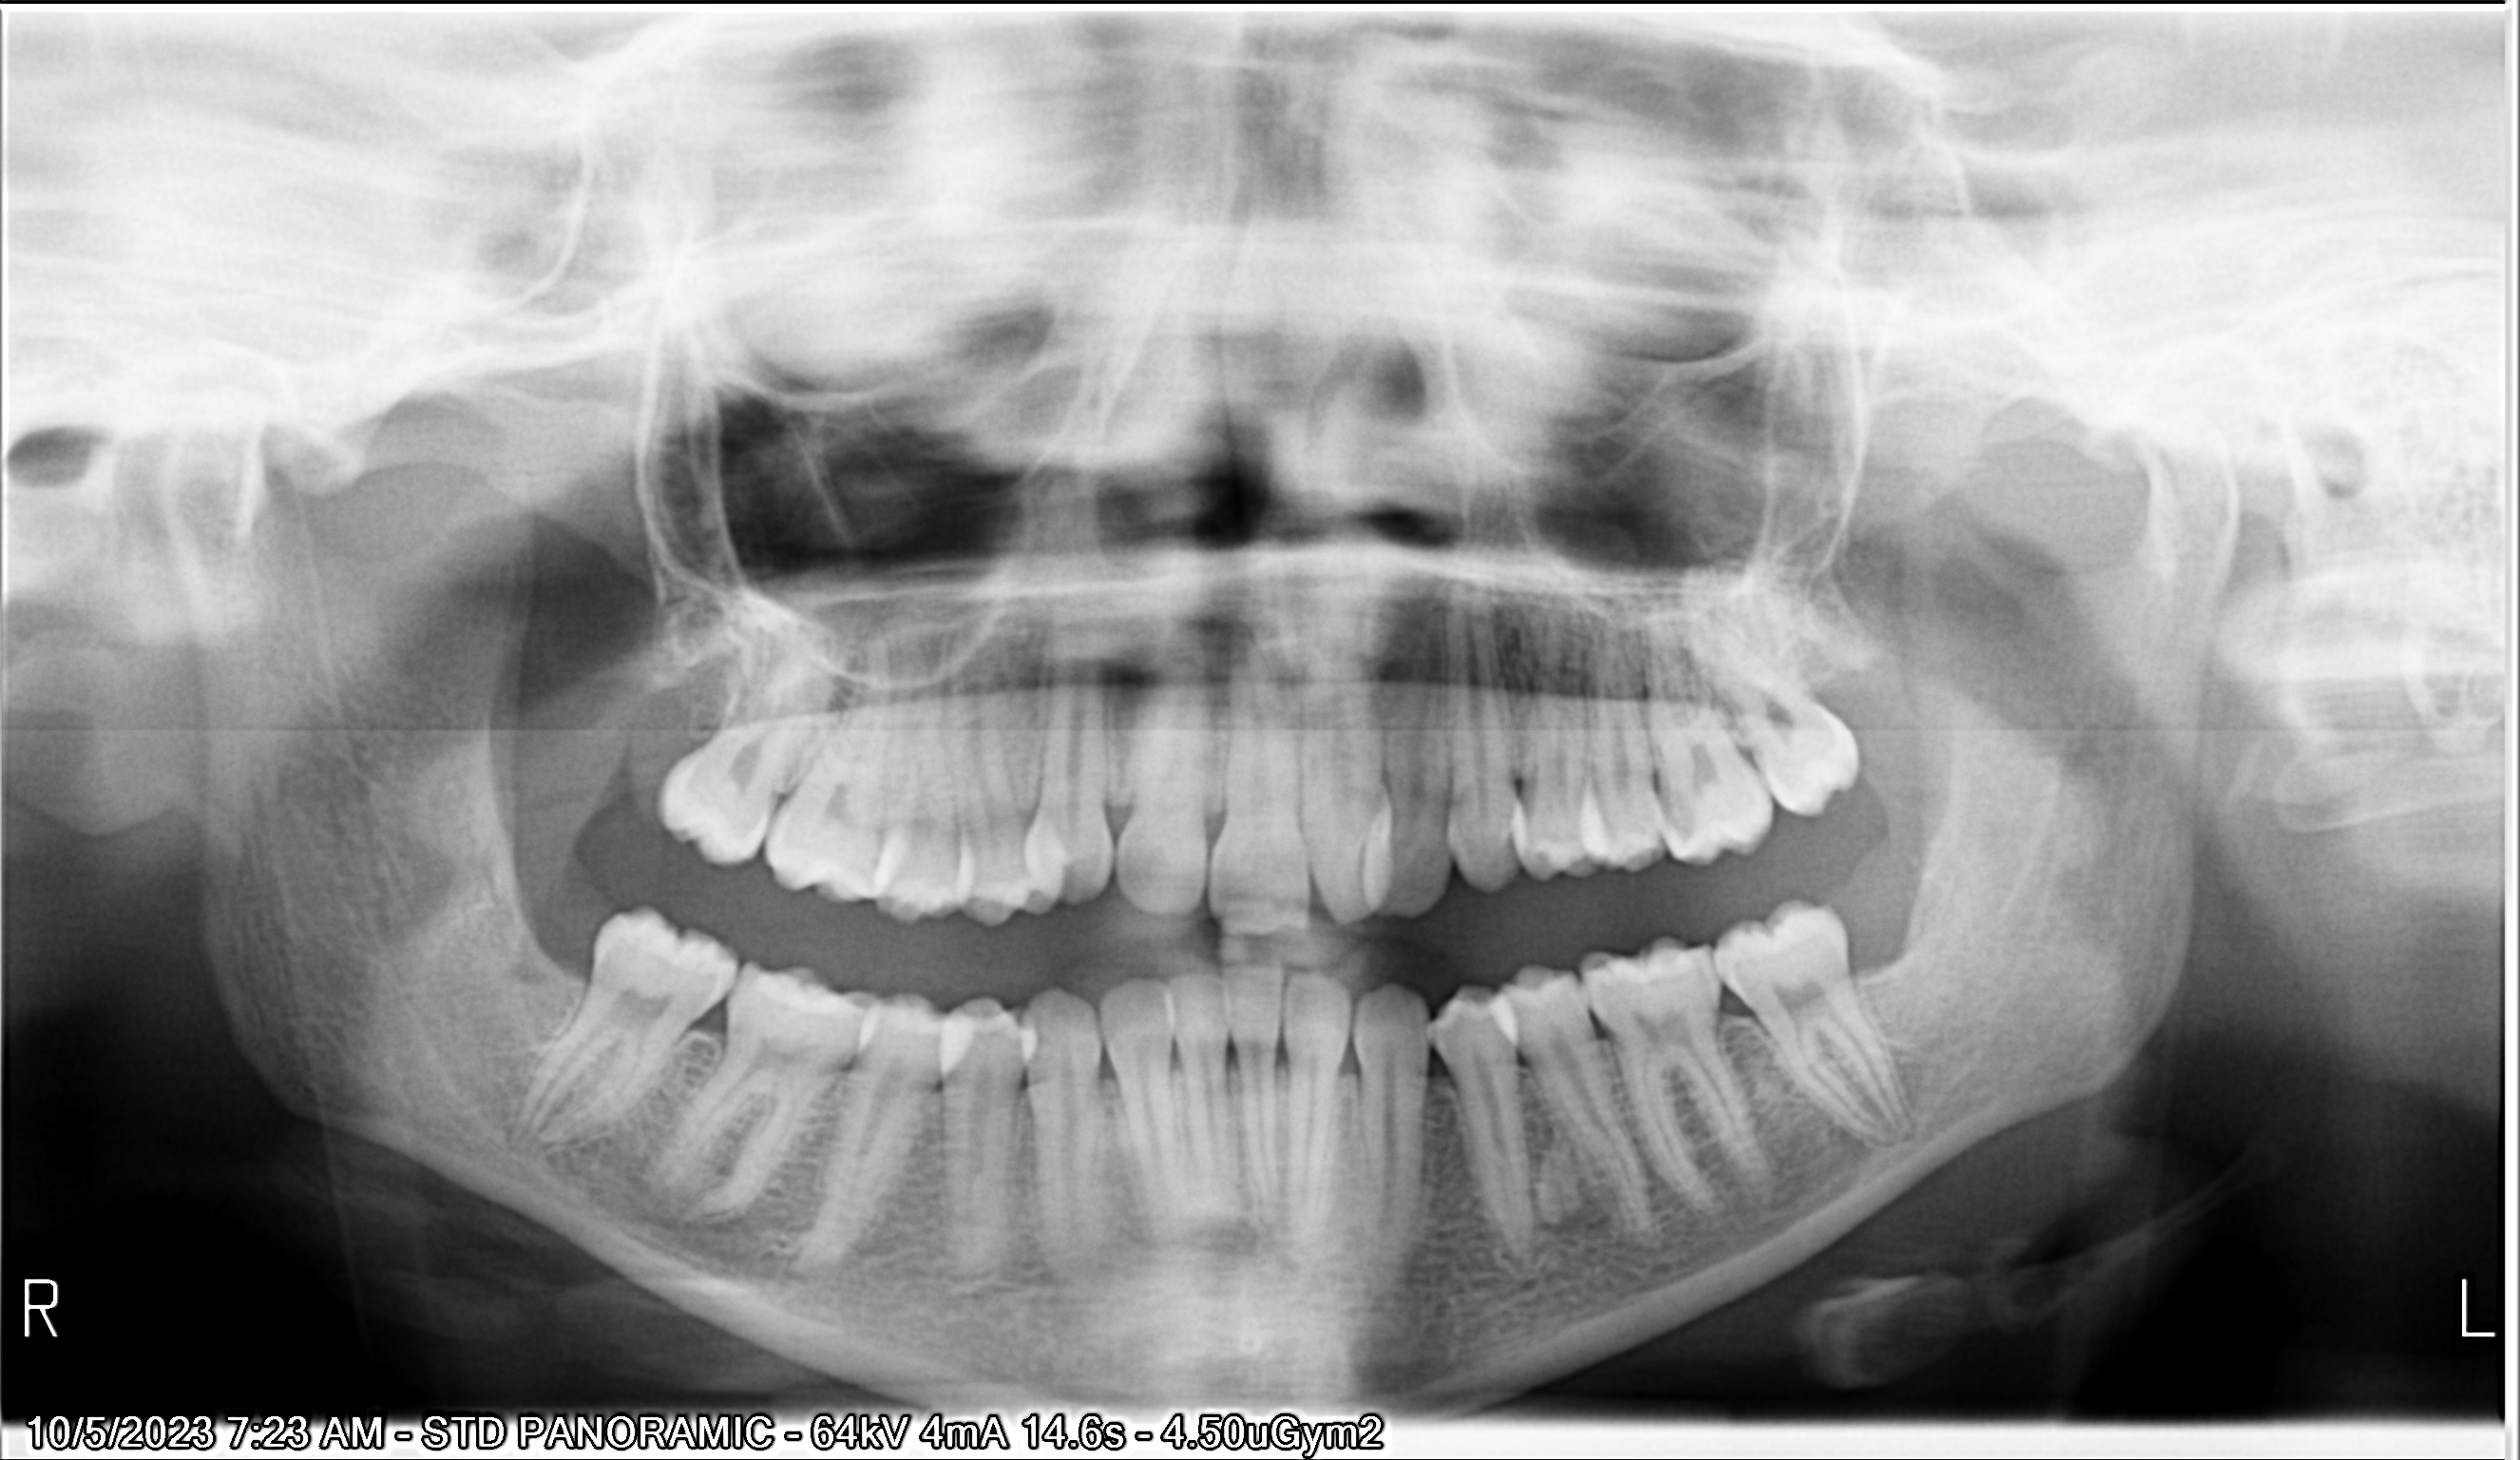CAR: (794, 341, 2496, 1198)
